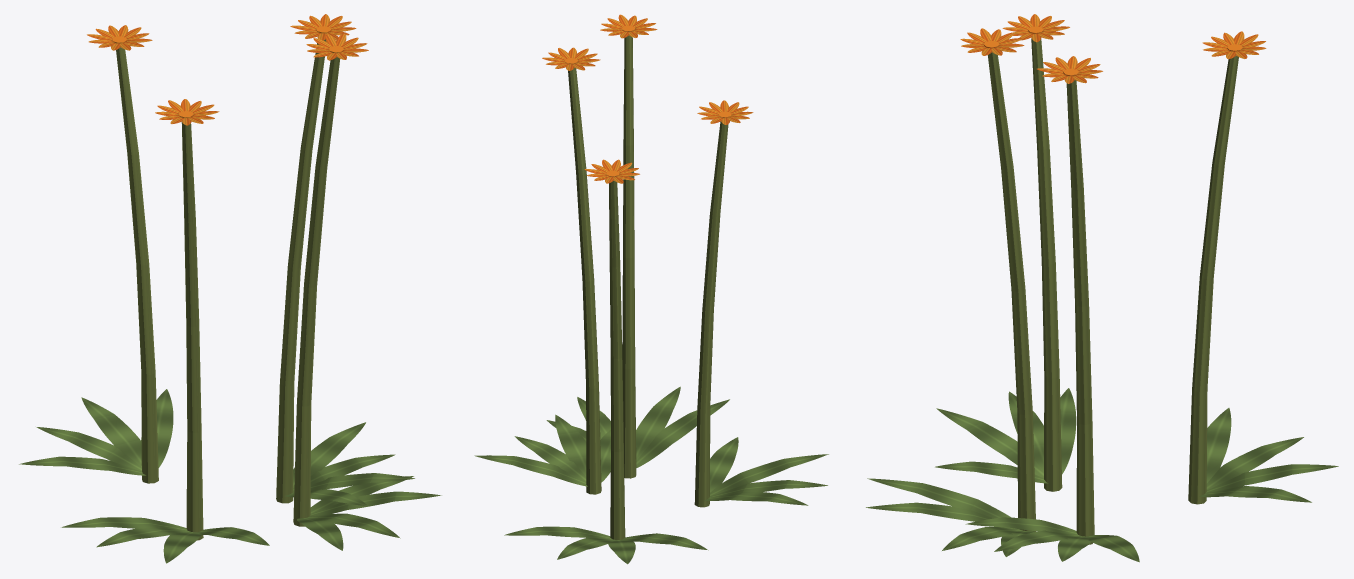
The model's file is savanna_sunflower_v02.fbx.
3 renders of one model, left to right at view 1: azimuth 30°, elevation 25°; view 2: azimuth 150°, elevation 25°; view 3: azimuth 270°, elevation 25°, orthographic. The views are drawn at different scales.
Parts seen in each view (by area): view 1: savanna_sunflower_v02; view 2: savanna_sunflower_v02; view 3: savanna_sunflower_v02.
Part boxes in pixels (<box>): savanna_sunflower_v02: <box>19,14,441,563</box>; savanna_sunflower_v02: <box>474,14,828,564</box>; savanna_sunflower_v02: <box>866,14,1338,562</box>.
Bounding box in the file's own units: 64.95 × 74.67 × 86.73.
3 materials, 3 textured.
